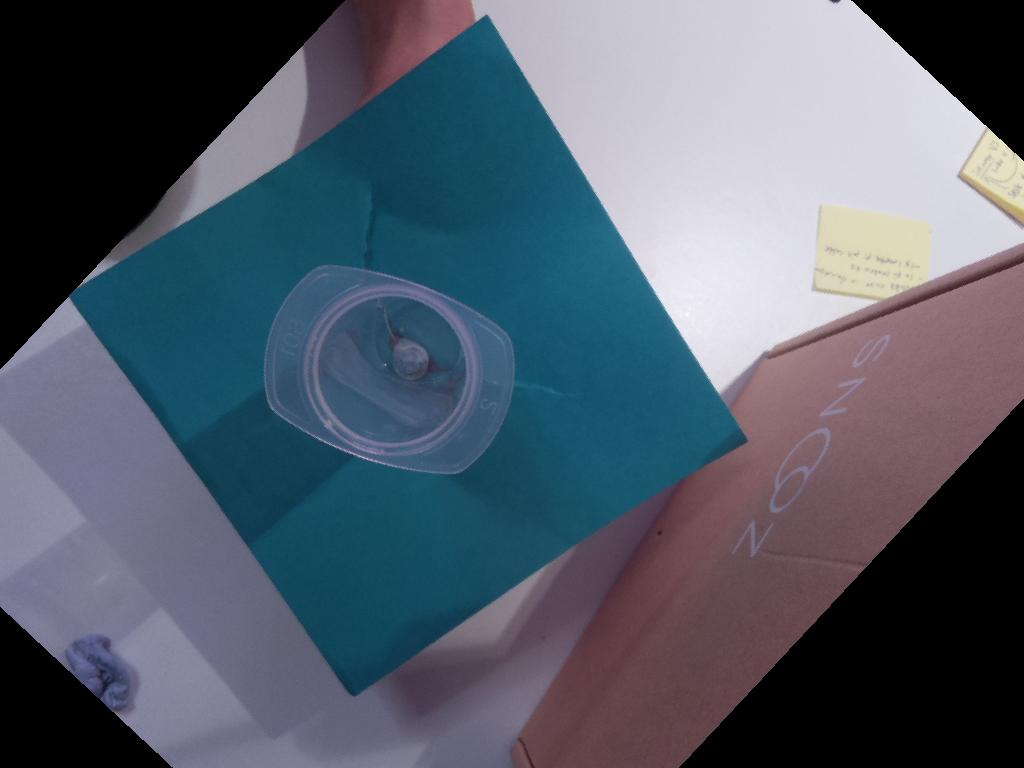clean: (264, 264, 515, 477)
